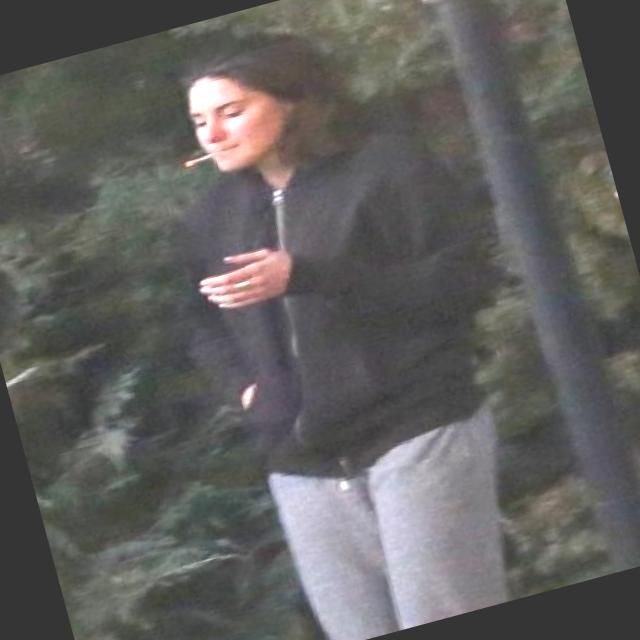smoke: (180, 144, 230, 170)
